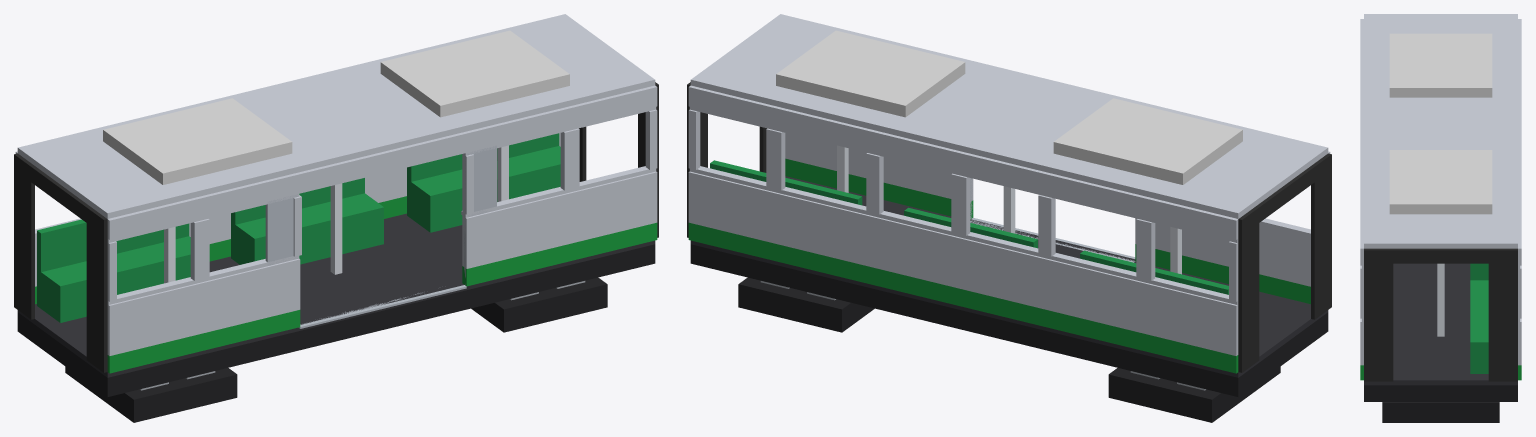
The model's file is metro_wagon_l2.obj.
3 views of the same model, side by side, from view 1: azimuth 30°, elevation 25°; view 2: azimuth 150°, elevation 25°; view 3: azimuth 270°, elevation 25° (orthographic). The views are drawn at different scales.
Bounding box in the file's own units: 3 × 1.26 × 0.88.
